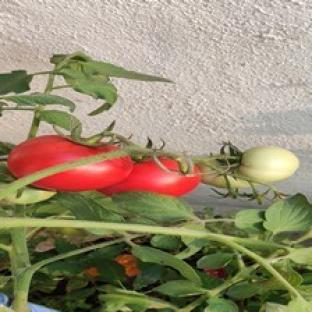Tomato: (7, 136, 118, 178), (99, 158, 200, 196), (239, 147, 299, 182), (197, 162, 250, 189), (5, 187, 55, 204), (115, 254, 140, 277), (56, 228, 87, 238), (204, 268, 227, 278)
